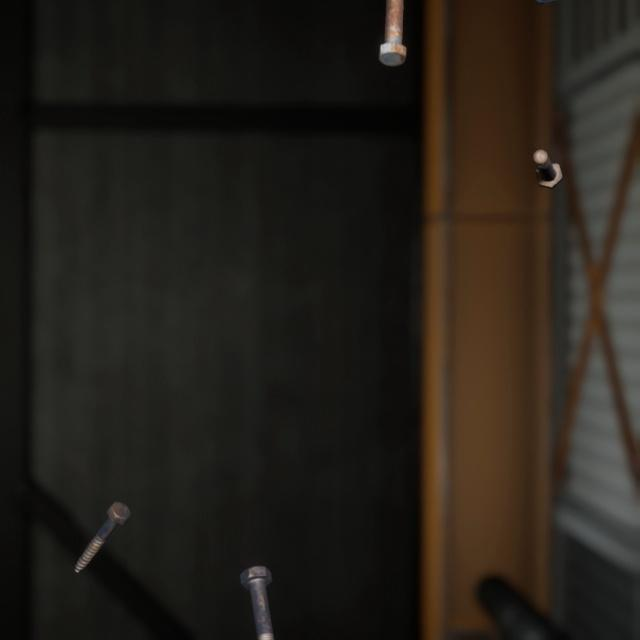bolt: (69, 474, 135, 554), (235, 537, 282, 640), (374, 0, 411, 65), (528, 130, 567, 180)
